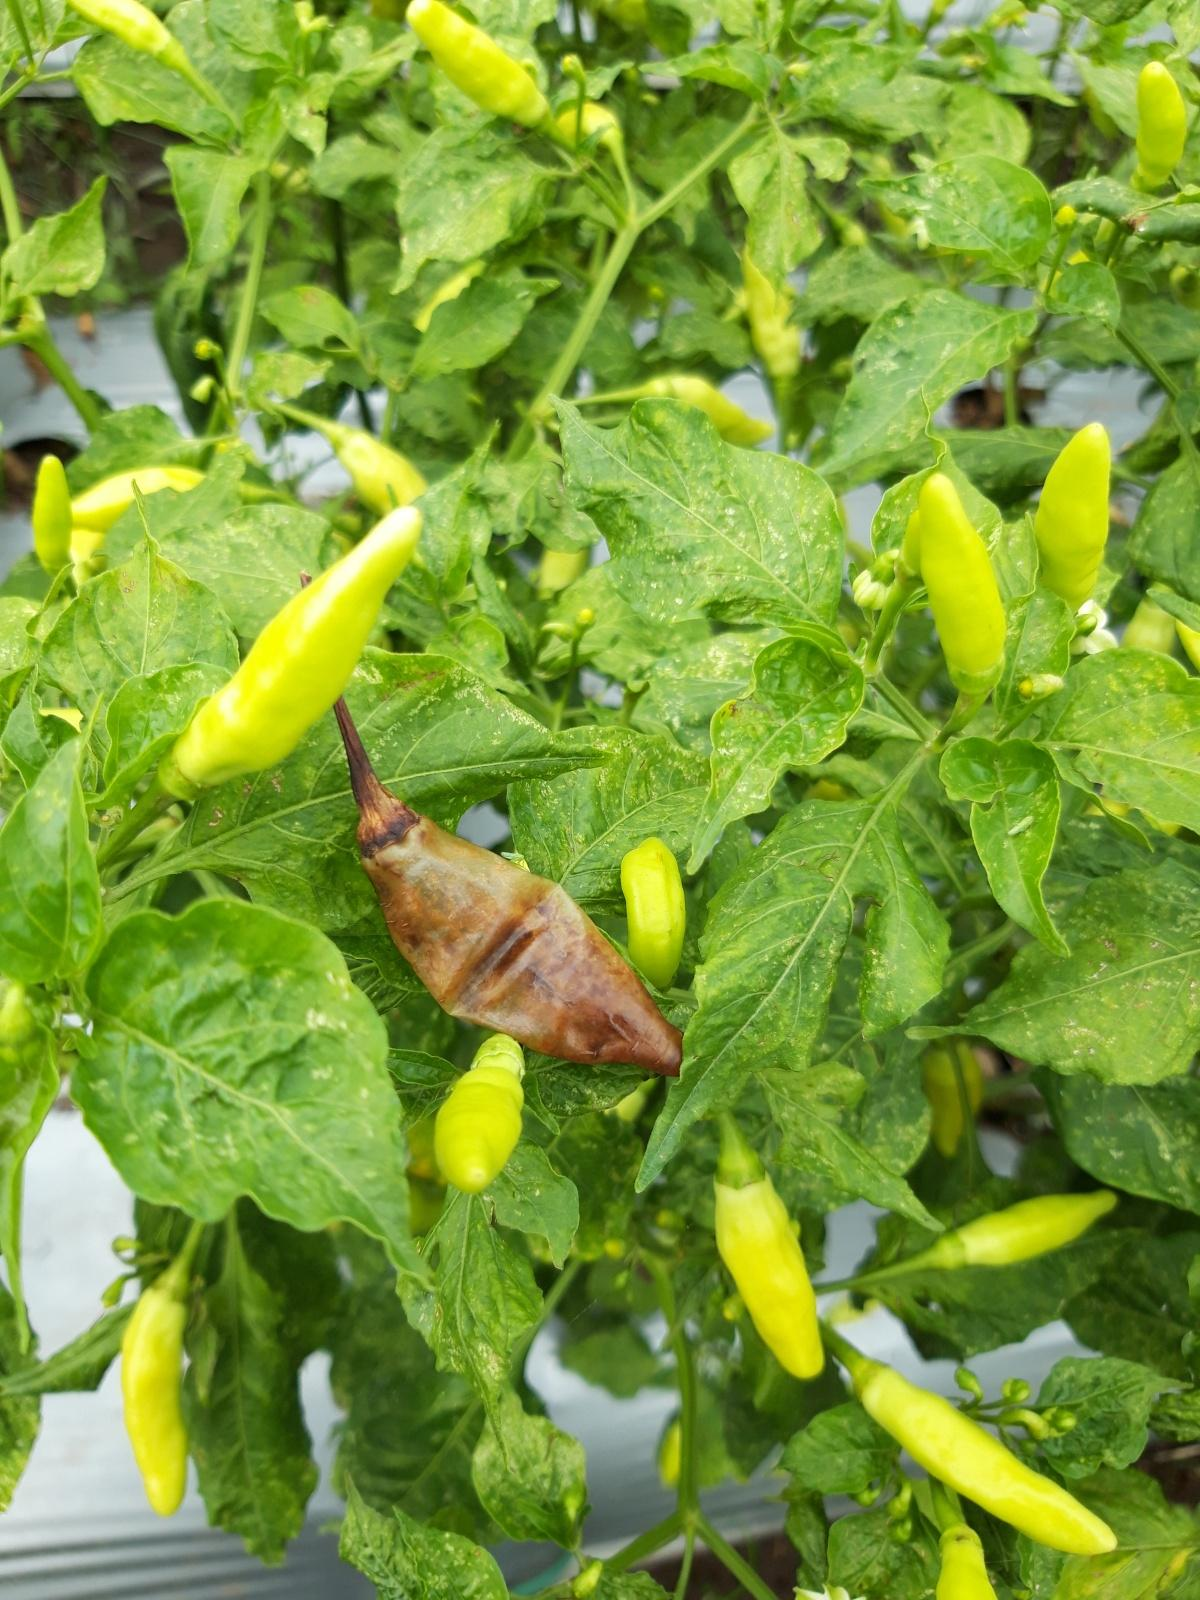cabai_normal: (163, 504, 429, 805), (852, 1357, 1118, 1558), (707, 1146, 824, 1382), (915, 472, 1006, 690), (402, 3, 552, 132), (117, 1277, 193, 1516), (1034, 421, 1111, 614), (937, 1191, 1119, 1271), (434, 1049, 527, 1192), (620, 839, 686, 995), (1134, 60, 1189, 184), (33, 451, 74, 578)
lalat_buah: (354, 803, 686, 1076)
